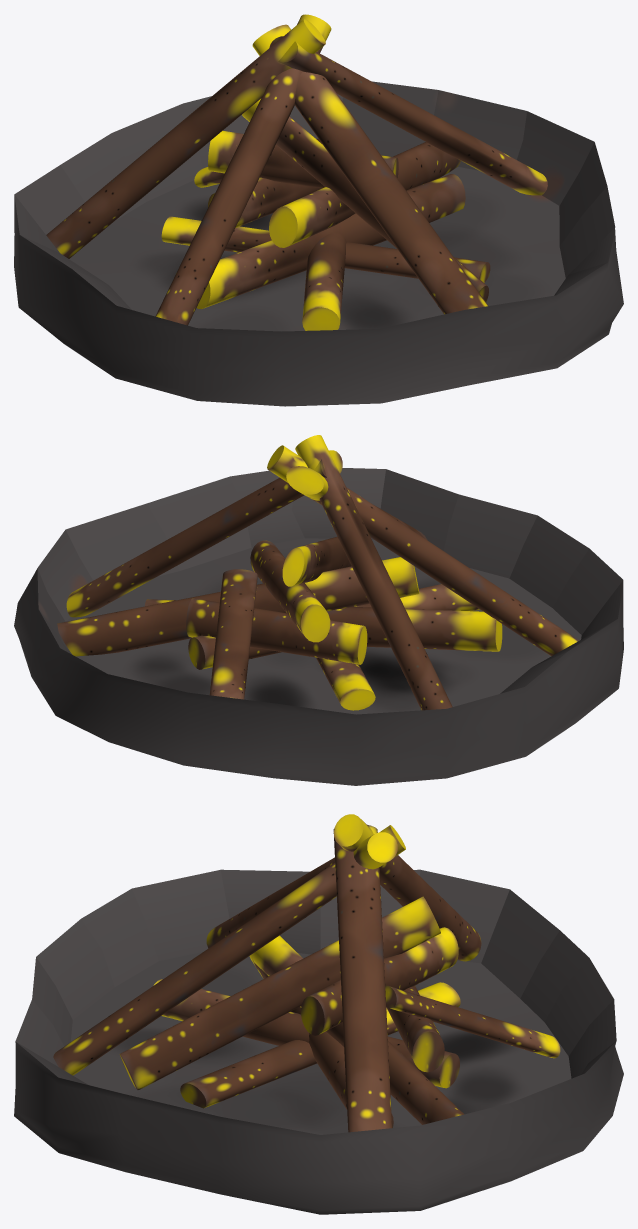
File: fire.fbx
The picture shows the model from 3 angles, top to bottom: view 1: azimuth 30°, elevation 25°; view 2: azimuth 150°, elevation 25°; view 3: azimuth 270°, elevation 25°; orthographic projection. The views are drawn at different scales.
Parts seen in each view (by area): view 1: firepit_low; view 2: firepit_low; view 3: firepit_low.
Part boxes in pixels (left/top/right/bottom): firepit_low: left=14, top=14, right=623, bottom=406; firepit_low: left=14, top=435, right=623, bottom=785; firepit_low: left=14, top=814, right=623, bottom=1214.
Bounding box in the file's own units: 13.27 × 5.89 × 12.49.
